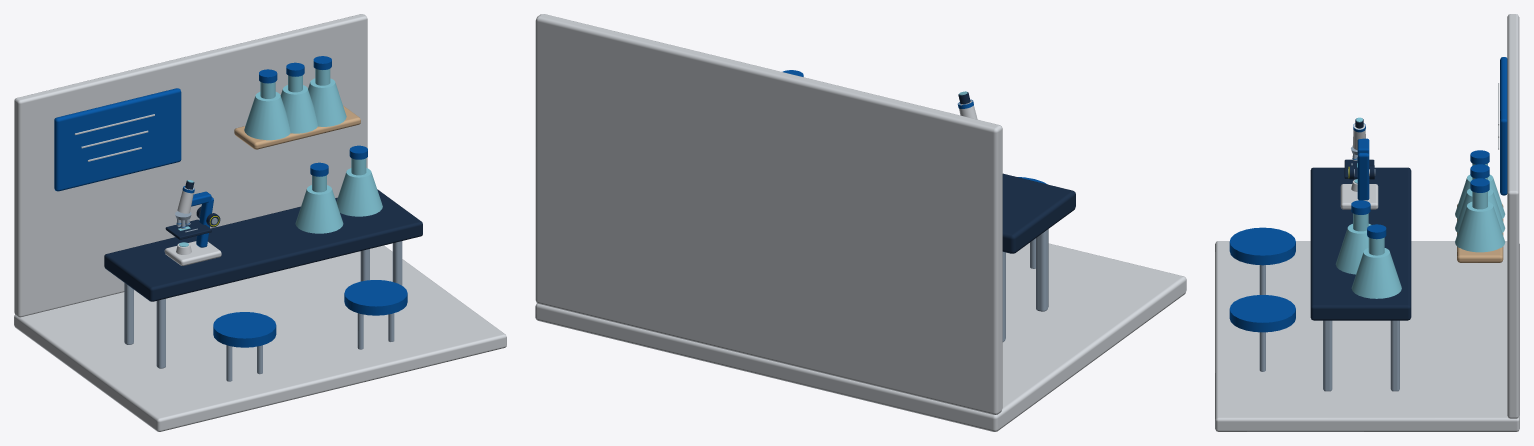
File: laboratory.glb
The picture shows the model from 3 angles, left to right: view 1: azimuth 30°, elevation 25°; view 2: azimuth 150°, elevation 25°; view 3: azimuth 270°, elevation 25°; orthographic projection. The views are drawn at different scales.
Parts seen in each view (by area): view 1: Mur du fond, Sol, Paillasse, Tableau, Flacon (×5), Tabouret (×2), Pied de table (×2), Étagère, Base, Platine; view 2: Mur du fond, Sol, Paillasse, Pied de table; view 3: Sol, Paillasse, Flacon (×5), Mur du fond, Tabouret (×2), Pied de table (×2), Tableau, Base, Étagère, Colonne.
Boxes of the visible parts, left/top/right/bottom form: Mur du fond: left=14, top=14, right=367, bottom=317; Sol: left=14, top=245, right=506, bottom=431; Paillasse: left=104, top=189, right=422, bottom=301; Tableau: left=54, top=88, right=181, bottom=191; Flacon (×5): left=244, top=78, right=382, bottom=233; Tabouret (×2): left=213, top=280, right=407, bottom=347; Pied de table (×2): left=124, top=283, right=165, bottom=368; Étagère: left=234, top=105, right=360, bottom=149; Base: left=164, top=241, right=221, bottom=265; Platine: left=165, top=219, right=211, bottom=239; Mur du fond: left=535, top=14, right=1002, bottom=414; Sol: left=535, top=243, right=1186, bottom=431; Paillasse: left=1002, top=173, right=1075, bottom=253; Pied de table: left=1036, top=229, right=1048, bottom=311; Sol: left=1215, top=241, right=1519, bottom=431; Paillasse: left=1310, top=167, right=1411, bottom=320; Flacon (×5): left=1335, top=174, right=1505, bottom=298; Mur du fond: left=1507, top=14, right=1519, bottom=418; Tabouret (×2): left=1229, top=227, right=1295, bottom=332; Pied de table (×2): left=1323, top=320, right=1399, bottom=391; Tableau: left=1500, top=57, right=1507, bottom=195; Base: left=1340, top=184, right=1378, bottom=209; Étagère: left=1457, top=204, right=1503, bottom=262; Colonne: left=1357, top=153, right=1369, bottom=200.
Bounding box in the file's own units: 3.2 × 2.01 × 2.3.
